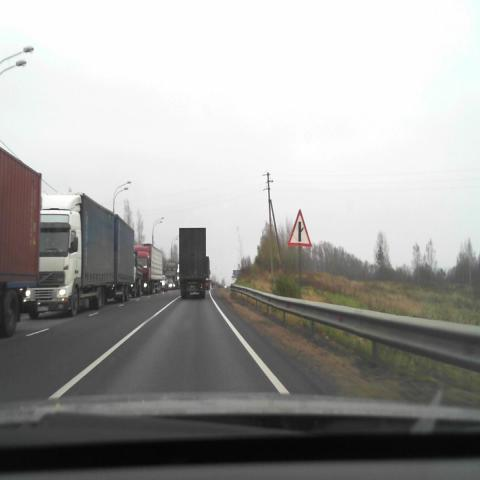2_3_4: (288, 208, 312, 246)
